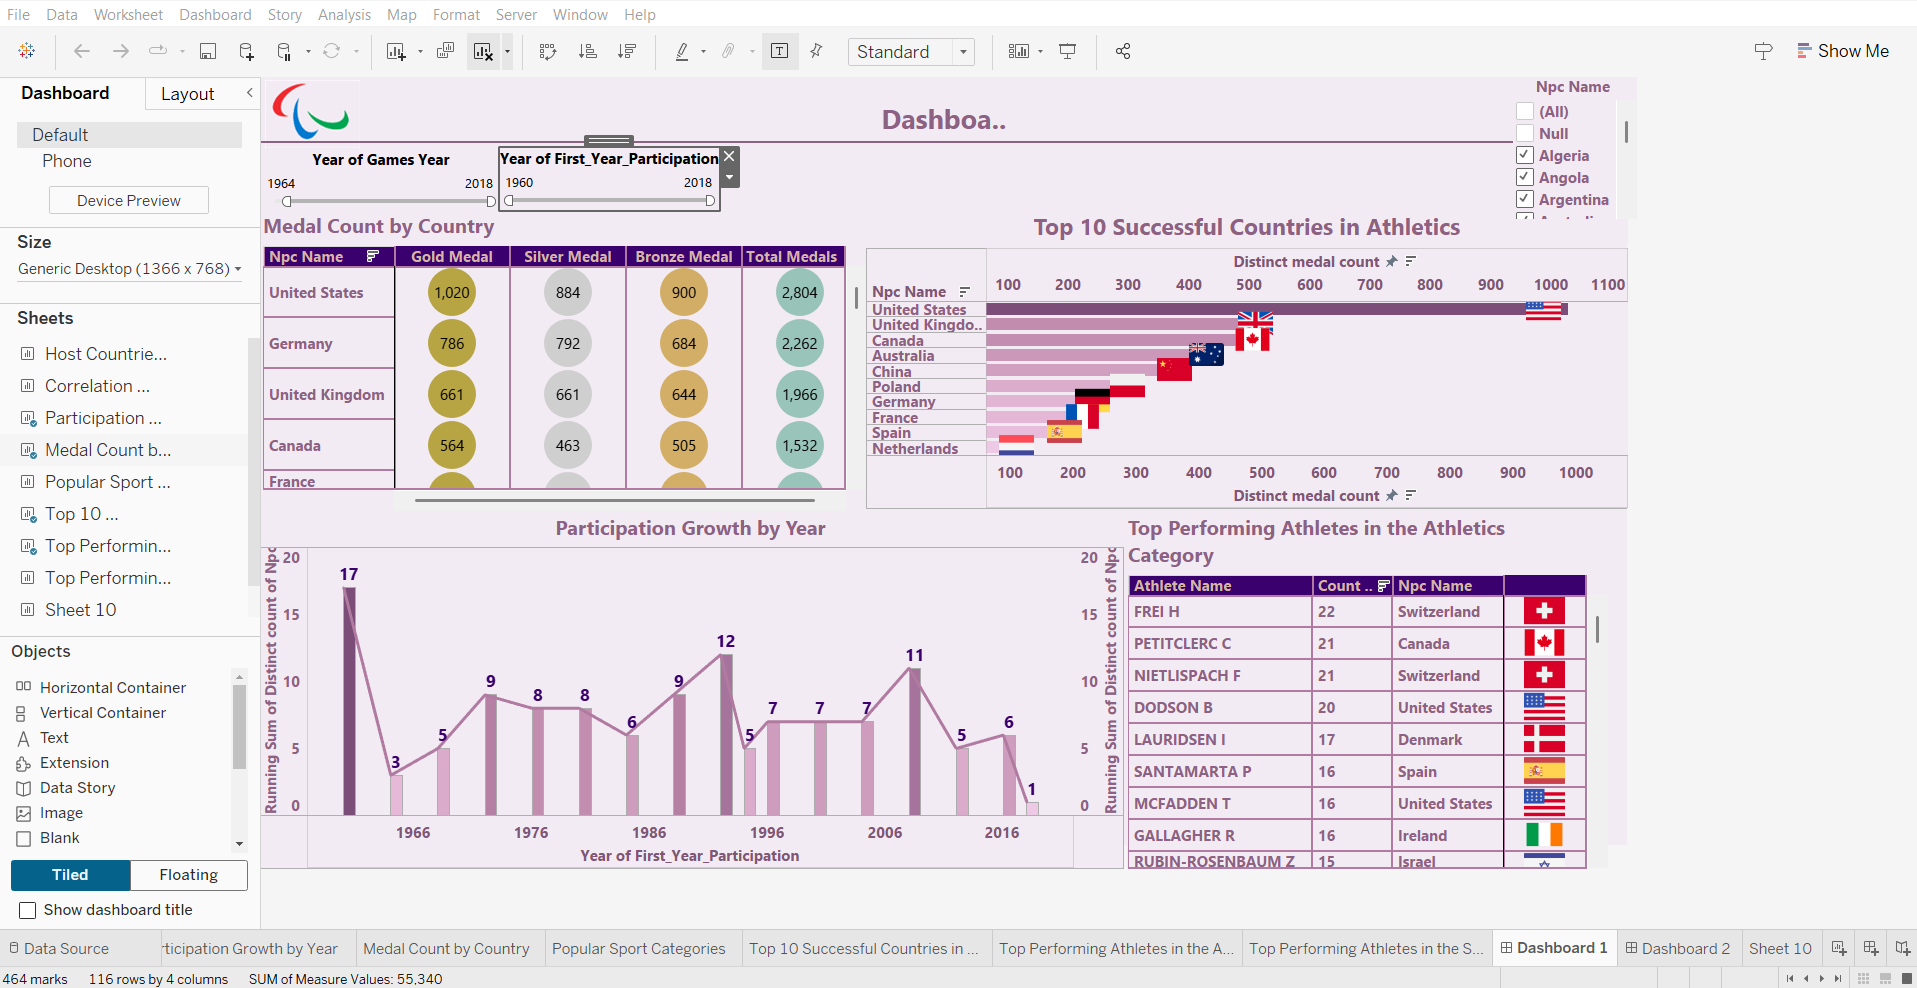

Layout of this report page (visuals, bound fields, positions):
{"tool":"tableau","page":{"name":"Dashboard 1","canvas":[1366,768],"ordinal":0},"visuals":[{"type":"image","param":"Image/Paralympic_flag_processed.png","box":[3,2,97,72]},{"type":"text","box":[617,26,131,30]},{"type":"blank","box":[0,64,1252,2]},{"type":"filter","title":"Medal Count by Country","param":"[federated.1isyg0o0jvhobf1ft3z9z01cdmjr].[tyr:Calculation_3002493586552057856:qk","box":[239,71.3,219,61.6]},{"type":"filter","title":"Medal Count by Country","param":"[federated.1isyg0o0jvhobf1ft3z9z01cdmjr].[tyr:games_year:qk]","box":[1,72,238,61]},{"type":"worksheet","title":"Top 10 Successful Countries in Athletics","mark":"Automatic","rows":["npc_name"],"cols":["Calculation_1016406153068376075","Calculation_1016406153068376075"],"box":[605,133,762,299]},{"type":"worksheet","title":"Medal Count by Country","mark":"Circle","rows":["npc_name"],"box":[1,134,605,300]}]}

Visuals, with their boxes on the page's 1366x768 design canvas (x1, y1, x2, y2). These are canvas units, not pixel positions in the 1917x988 screenshot, which may show the page scaled, cropped or inside an application window:
image: pyautogui.locateOnScreen(3, 2, 100, 74)
text: pyautogui.locateOnScreen(617, 26, 748, 56)
blank: pyautogui.locateOnScreen(0, 64, 1252, 66)
"Medal Count by Country" filter: pyautogui.locateOnScreen(239, 71, 458, 133)
"Medal Count by Country" filter: pyautogui.locateOnScreen(1, 72, 239, 133)
"Top 10 Successful Countries in Athletics" worksheet: pyautogui.locateOnScreen(605, 133, 1367, 432)
"Medal Count by Country" worksheet (Circle marks): pyautogui.locateOnScreen(1, 134, 606, 434)
